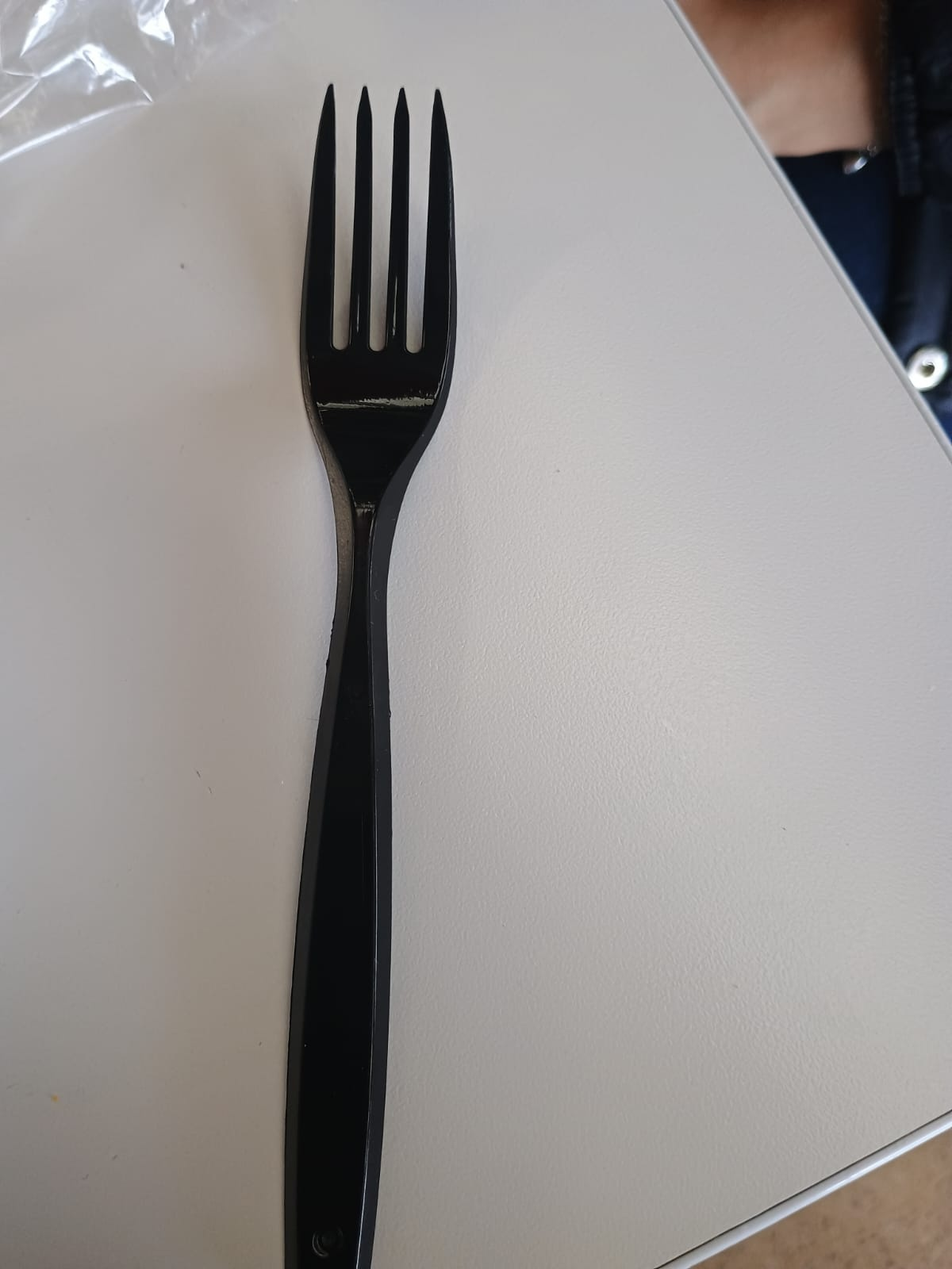Ordinario: (280, 83, 457, 1265)
